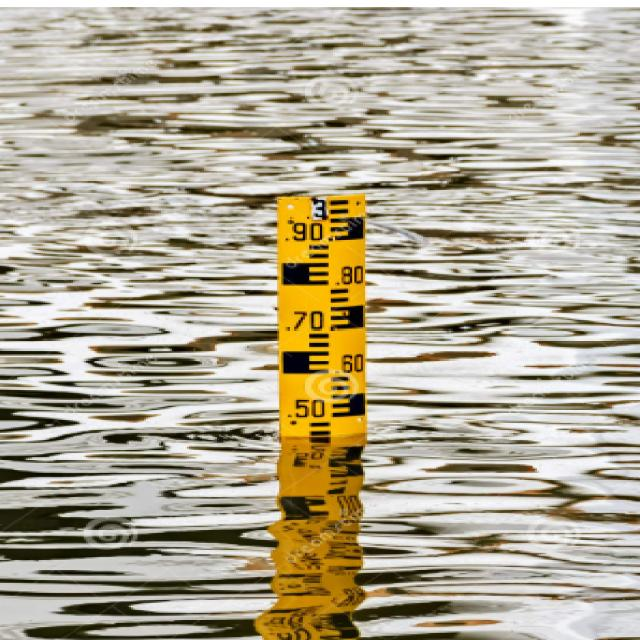ruler: (266, 186, 381, 443)
value: (279, 396, 332, 422), (276, 308, 331, 333), (280, 221, 328, 243), (328, 351, 367, 376), (327, 264, 366, 288), (309, 197, 331, 219)
